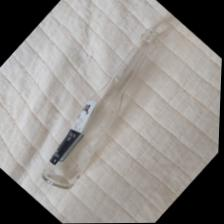glass: (23, 24, 190, 199)
